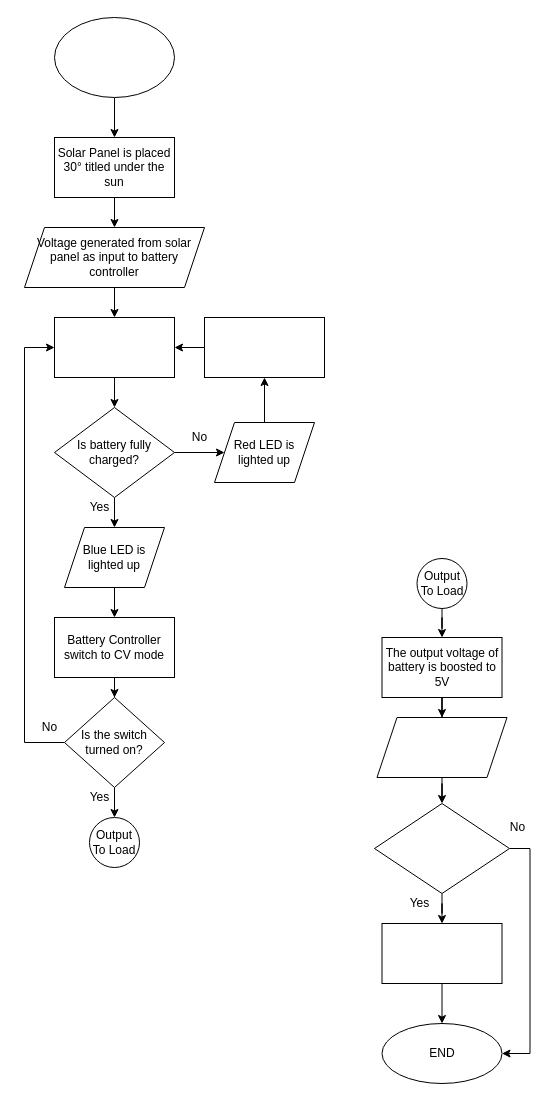
Some shapes in this 556 by 1101 pixel diagram are drawn without their labels. The box of each missing label's shape, as (x1, y1, x2, y2) in pixels:
Battery controller charges the Li-Ion battery: (54, 316, 174, 378)
Battery Controller switch to CC mode: (204, 316, 324, 378)
Cut off the circuit automatically: (381, 922, 502, 984)
Electrical load receive 5V via USB adapter: (376, 716, 507, 778)
Is the battery over-discharged?: (374, 802, 510, 894)
Start: (54, 16, 174, 98)
